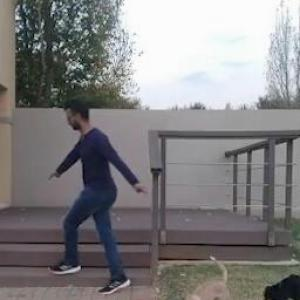land: (42, 90, 186, 299)
